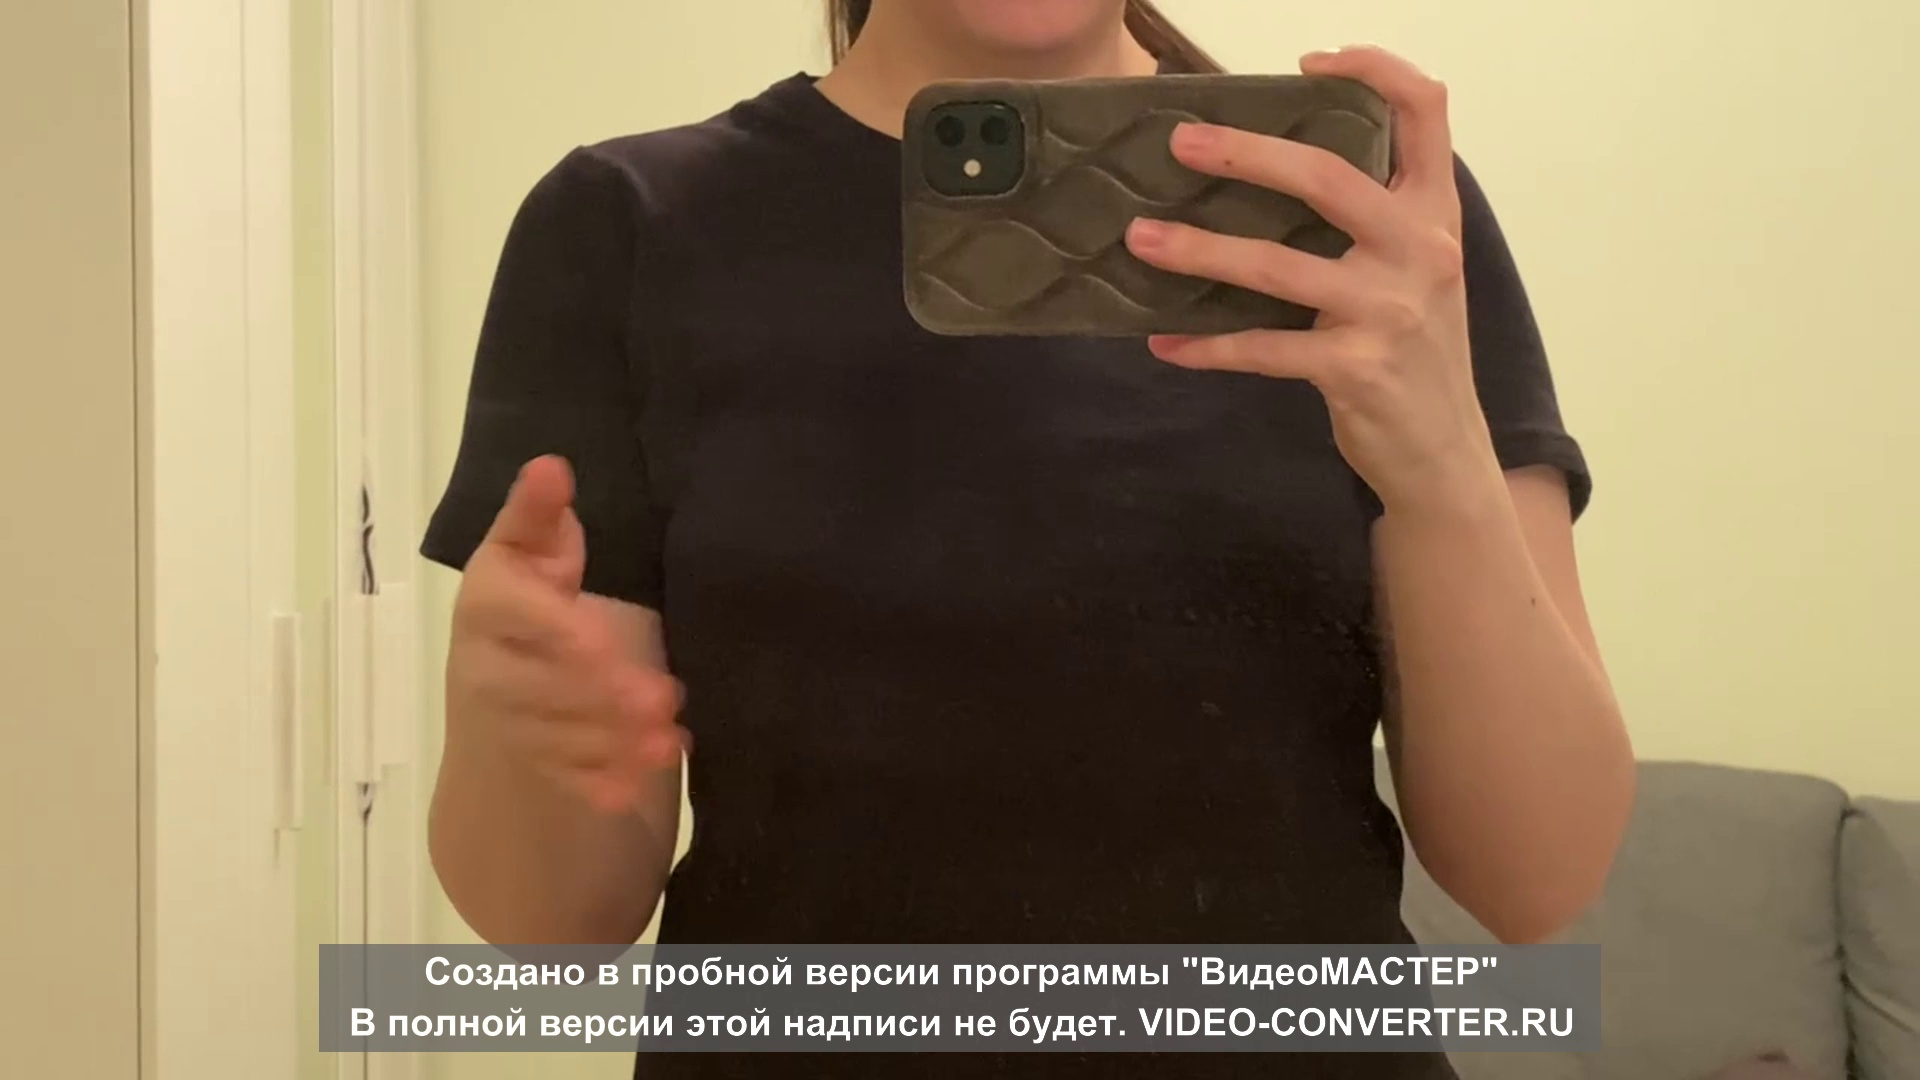Кисть: (454, 454, 688, 822)
